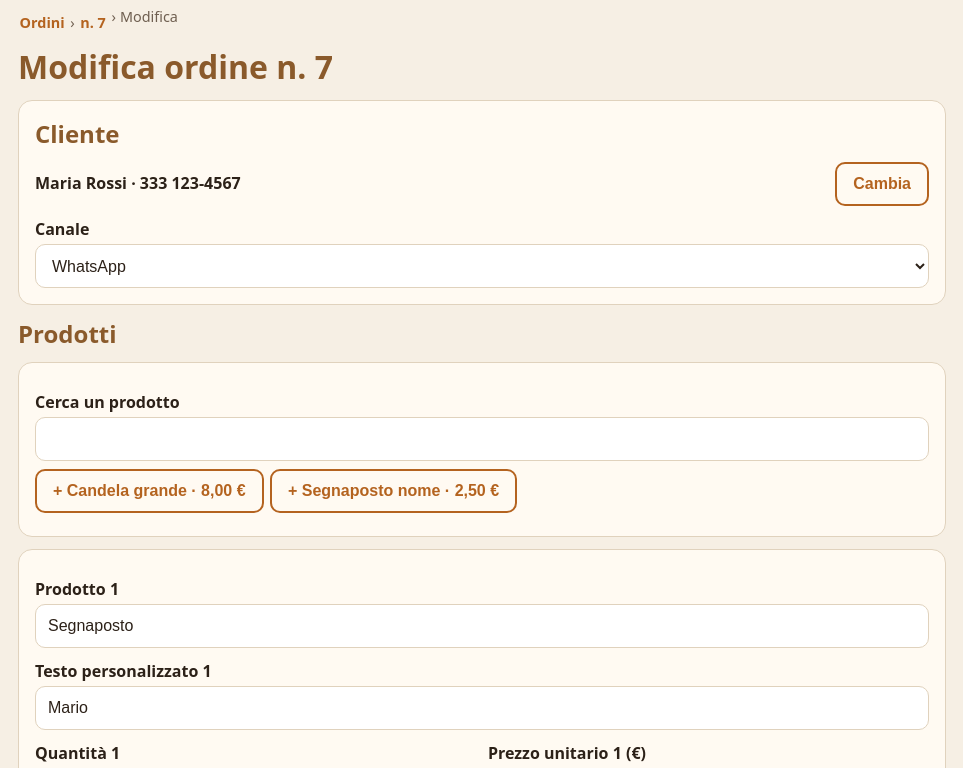
Test case: modifica di un ordine esistente › senza righe valide non salva
Step 1. Clear the field labelled "Prodotto 1" → x=482, y=626, box [35,604,929,648]
(page scrolled)
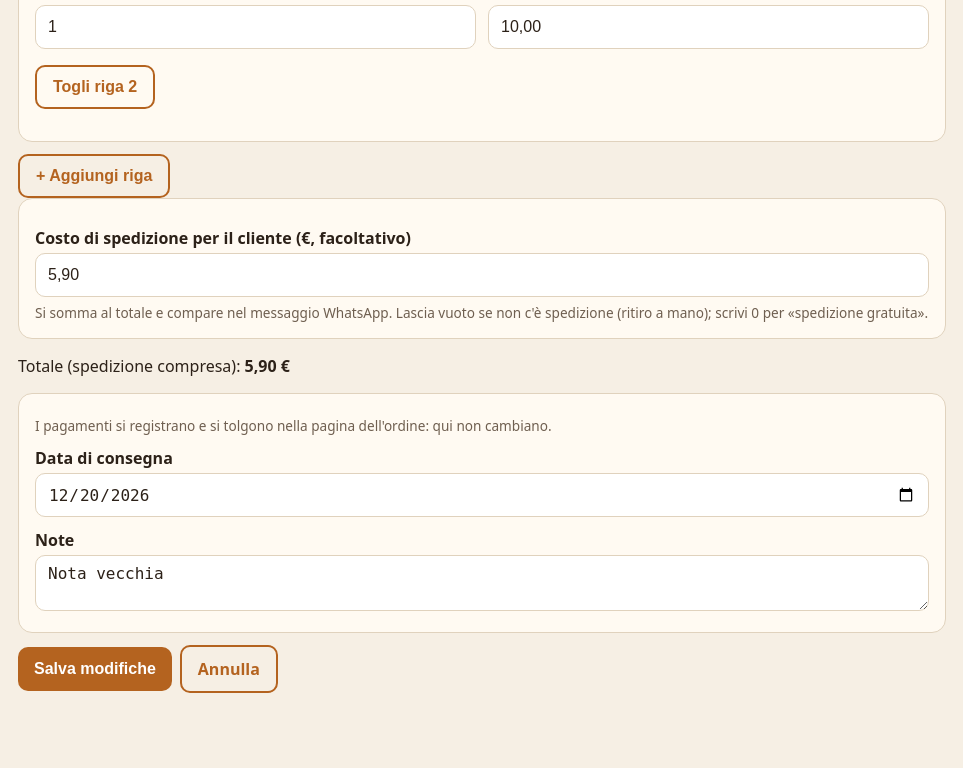
Step 2. Click the button "Salva modifiche" → x=95, y=669, box [18,647,172,691]
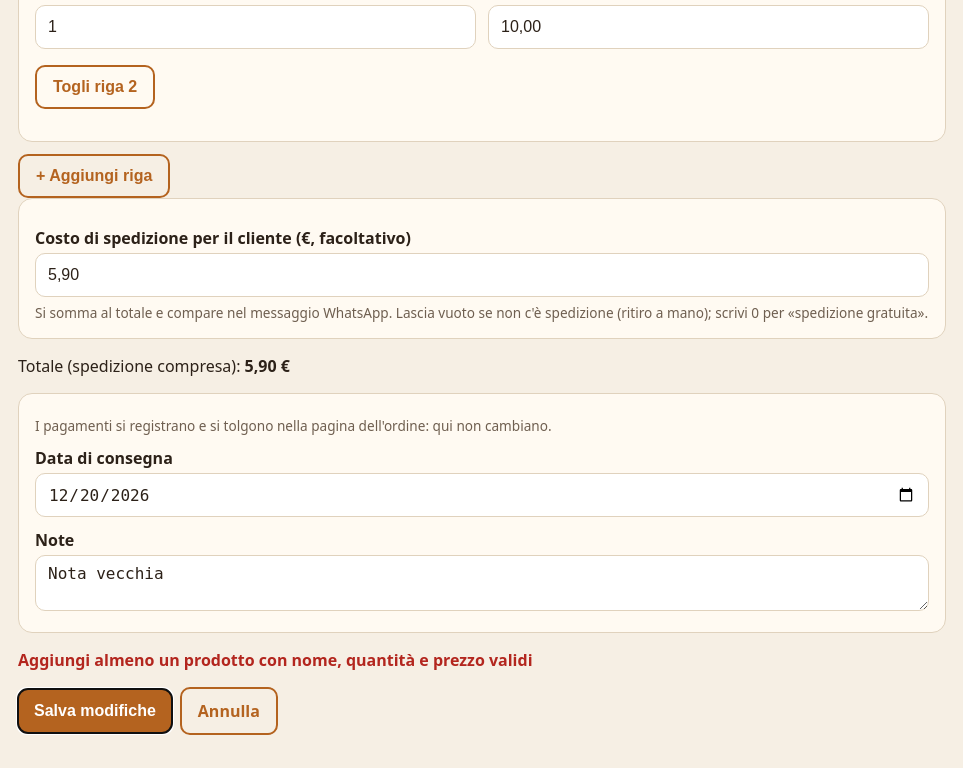
Now the text "Aggiungi almeno un prodotto con nome, quantità e prezzo validi" is shown, box [18,649,532,671]
